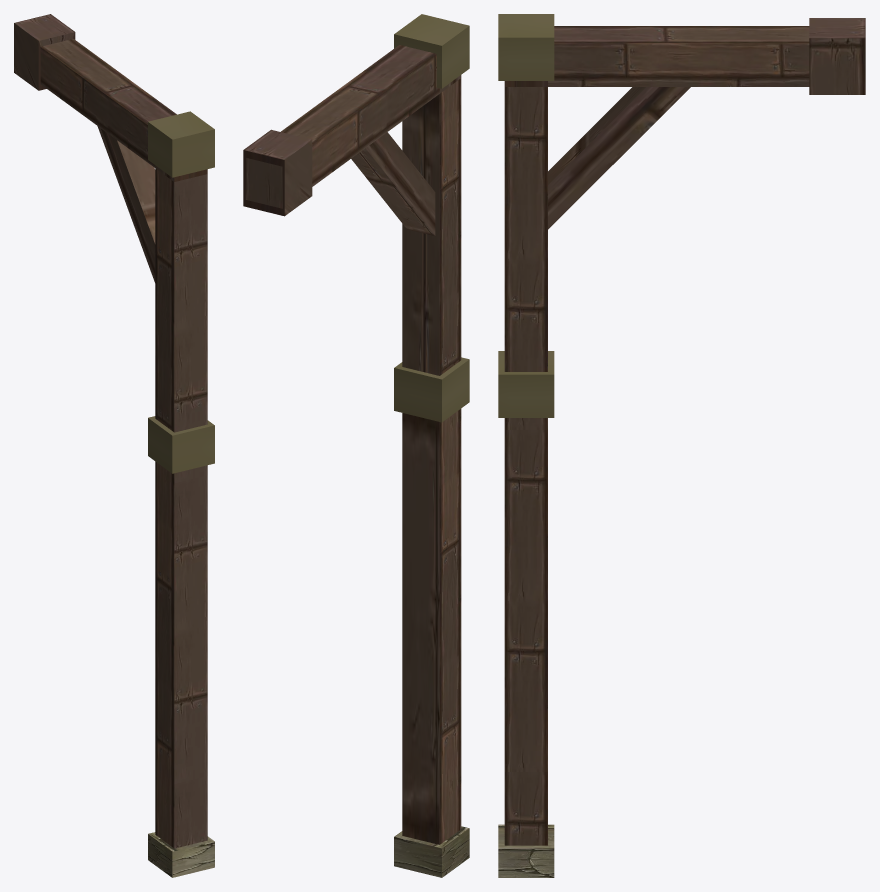
Rendered from lightframe.fbx.
The picture shows the model from 3 angles, left to right: view 1: azimuth 30°, elevation 25°; view 2: azimuth 150°, elevation 25°; view 3: azimuth 270°, elevation 25°; orthographic projection. The views are drawn at different scales.
Parts seen in each view (by area): view 1: 立方体.017; view 2: 立方体.017; view 3: 立方体.017.
Boxes of the visible parts, x1=… form: 立方体.017: x1=14, y1=14, x2=214, y2=877; 立方体.017: x1=243, y1=14, x2=469, y2=877; 立方体.017: x1=498, y1=14, x2=865, y2=877.
Size of the model in its own units: 298 by 4952 by 1960.
